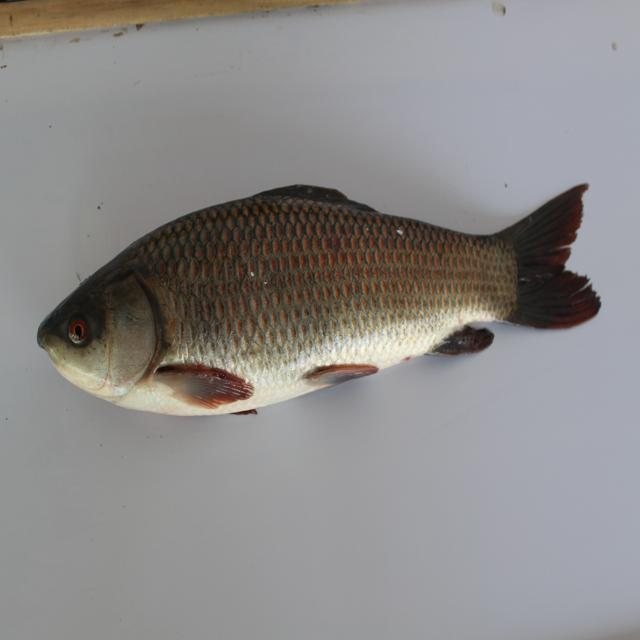Rohu: (36, 173, 601, 473)
